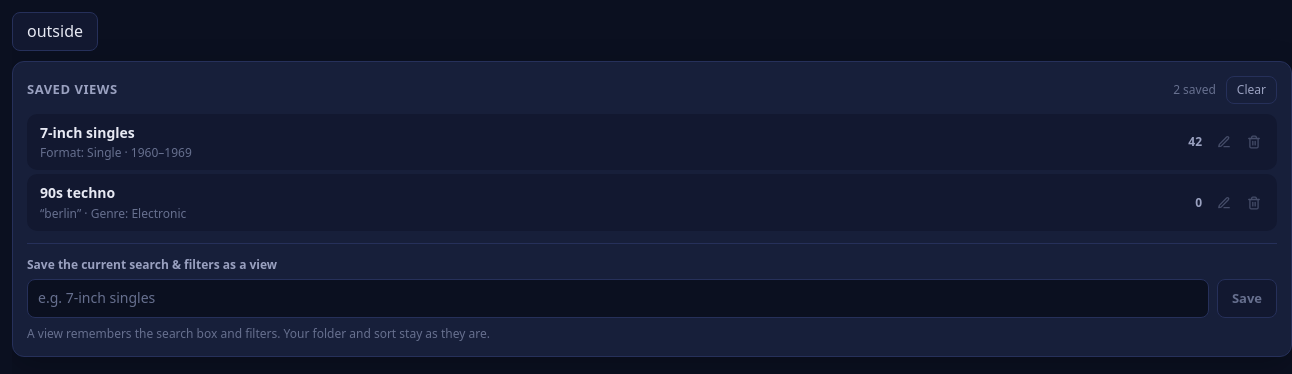
ViewsPanel › refuses a duplicate name
This screenshot has width=1292, height=374.
In the field labelled "Save the current search & filters as a view": (618, 298) [27,279,1209,318], type "90s TECHNO"
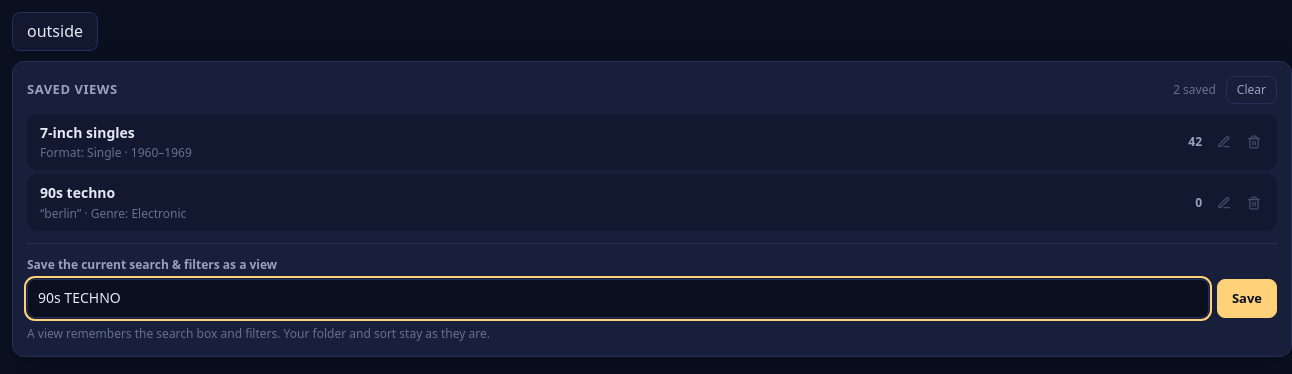
Click the button "Save": (1247, 298) [1217,279,1277,318]
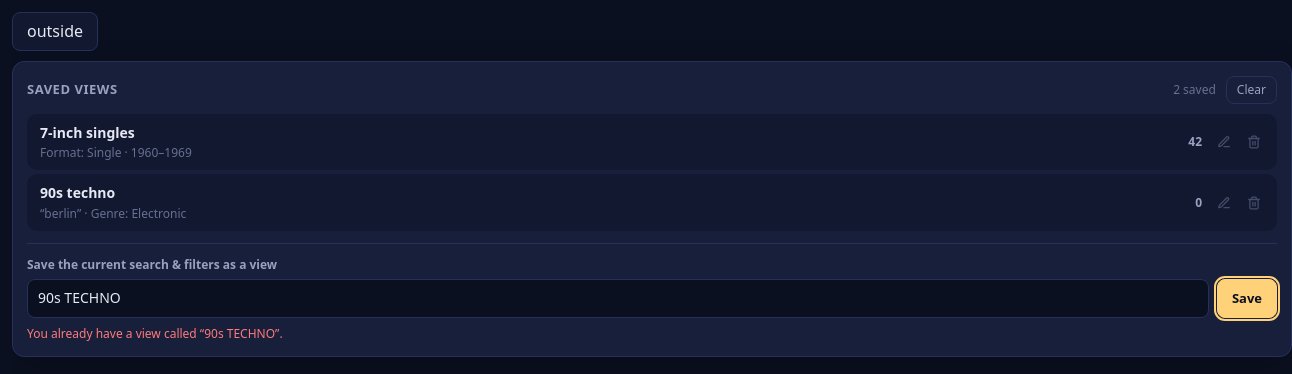
Expected: the message reads "You already have a view called “90s TECHNO”.", [27,325,283,342]
